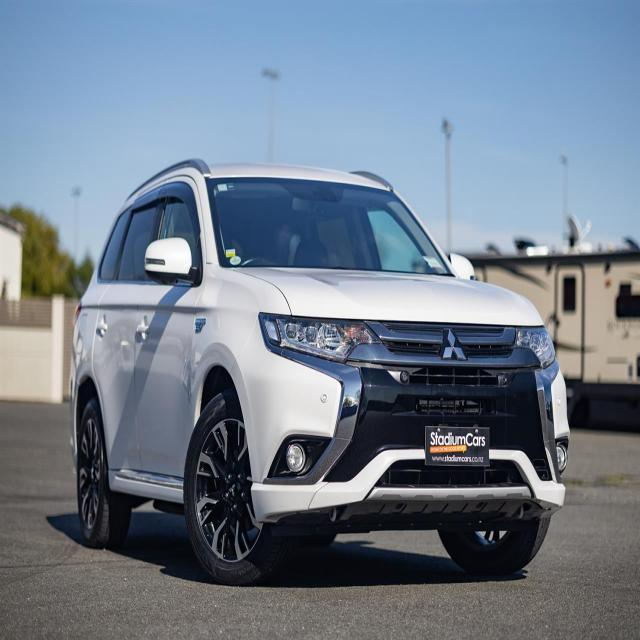light_vehicle: (68, 160, 570, 584)
